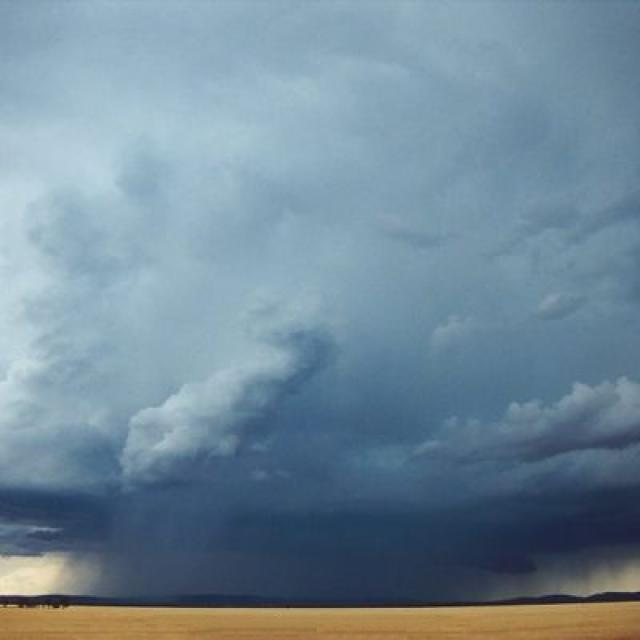Cb: (1, 110, 640, 571)
